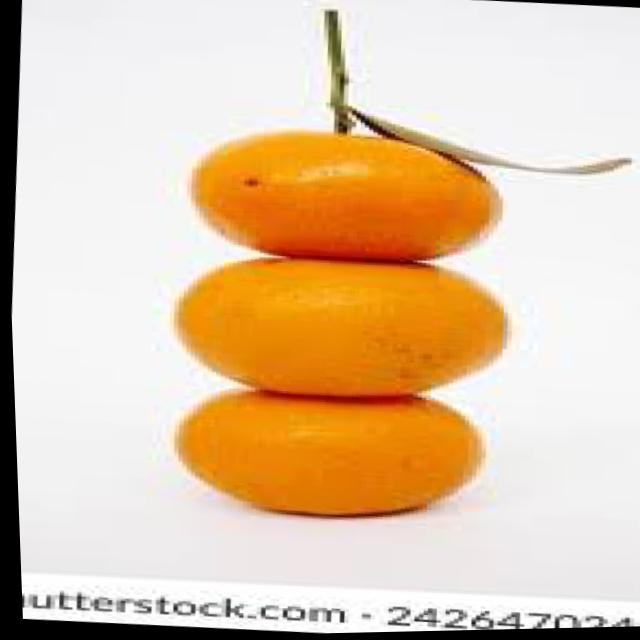orange: (163, 244, 513, 415), (176, 118, 503, 277), (162, 375, 487, 531)
